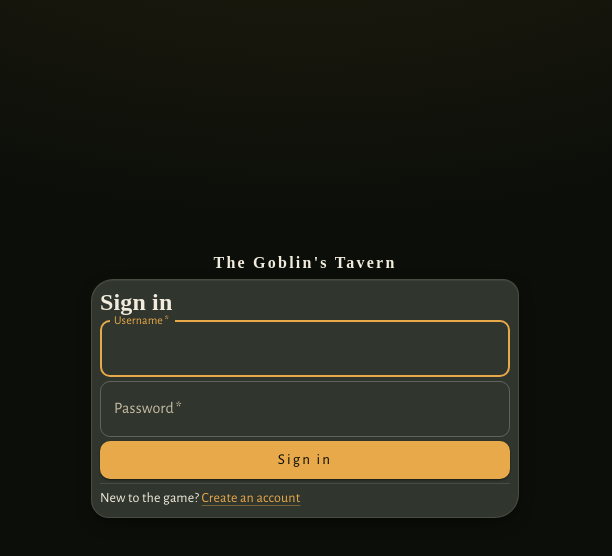
Test case: SignInRoute (UI-1 … UI-12) › UI-4: submitting both fields empty sends no request, marks both invalid, and focuses Username
Click the button "Sign in" at (305, 460), box [100,441,510,479]
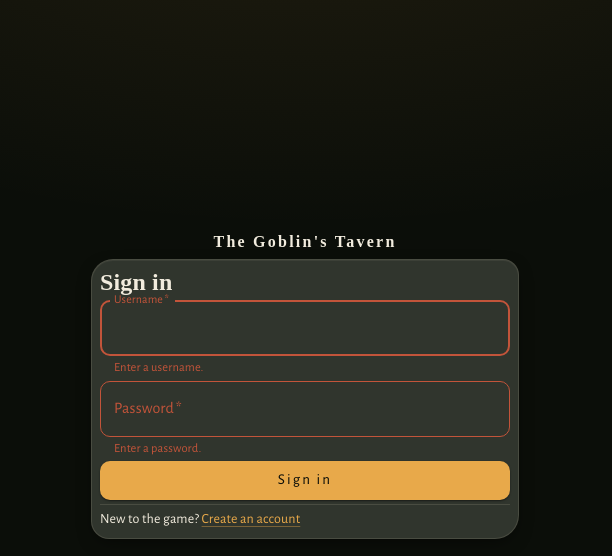
Expected: the text "Enter a username." is shown, [114,361,204,374]
Expected: the text "Enter a password." is shown, [114,442,201,455]
